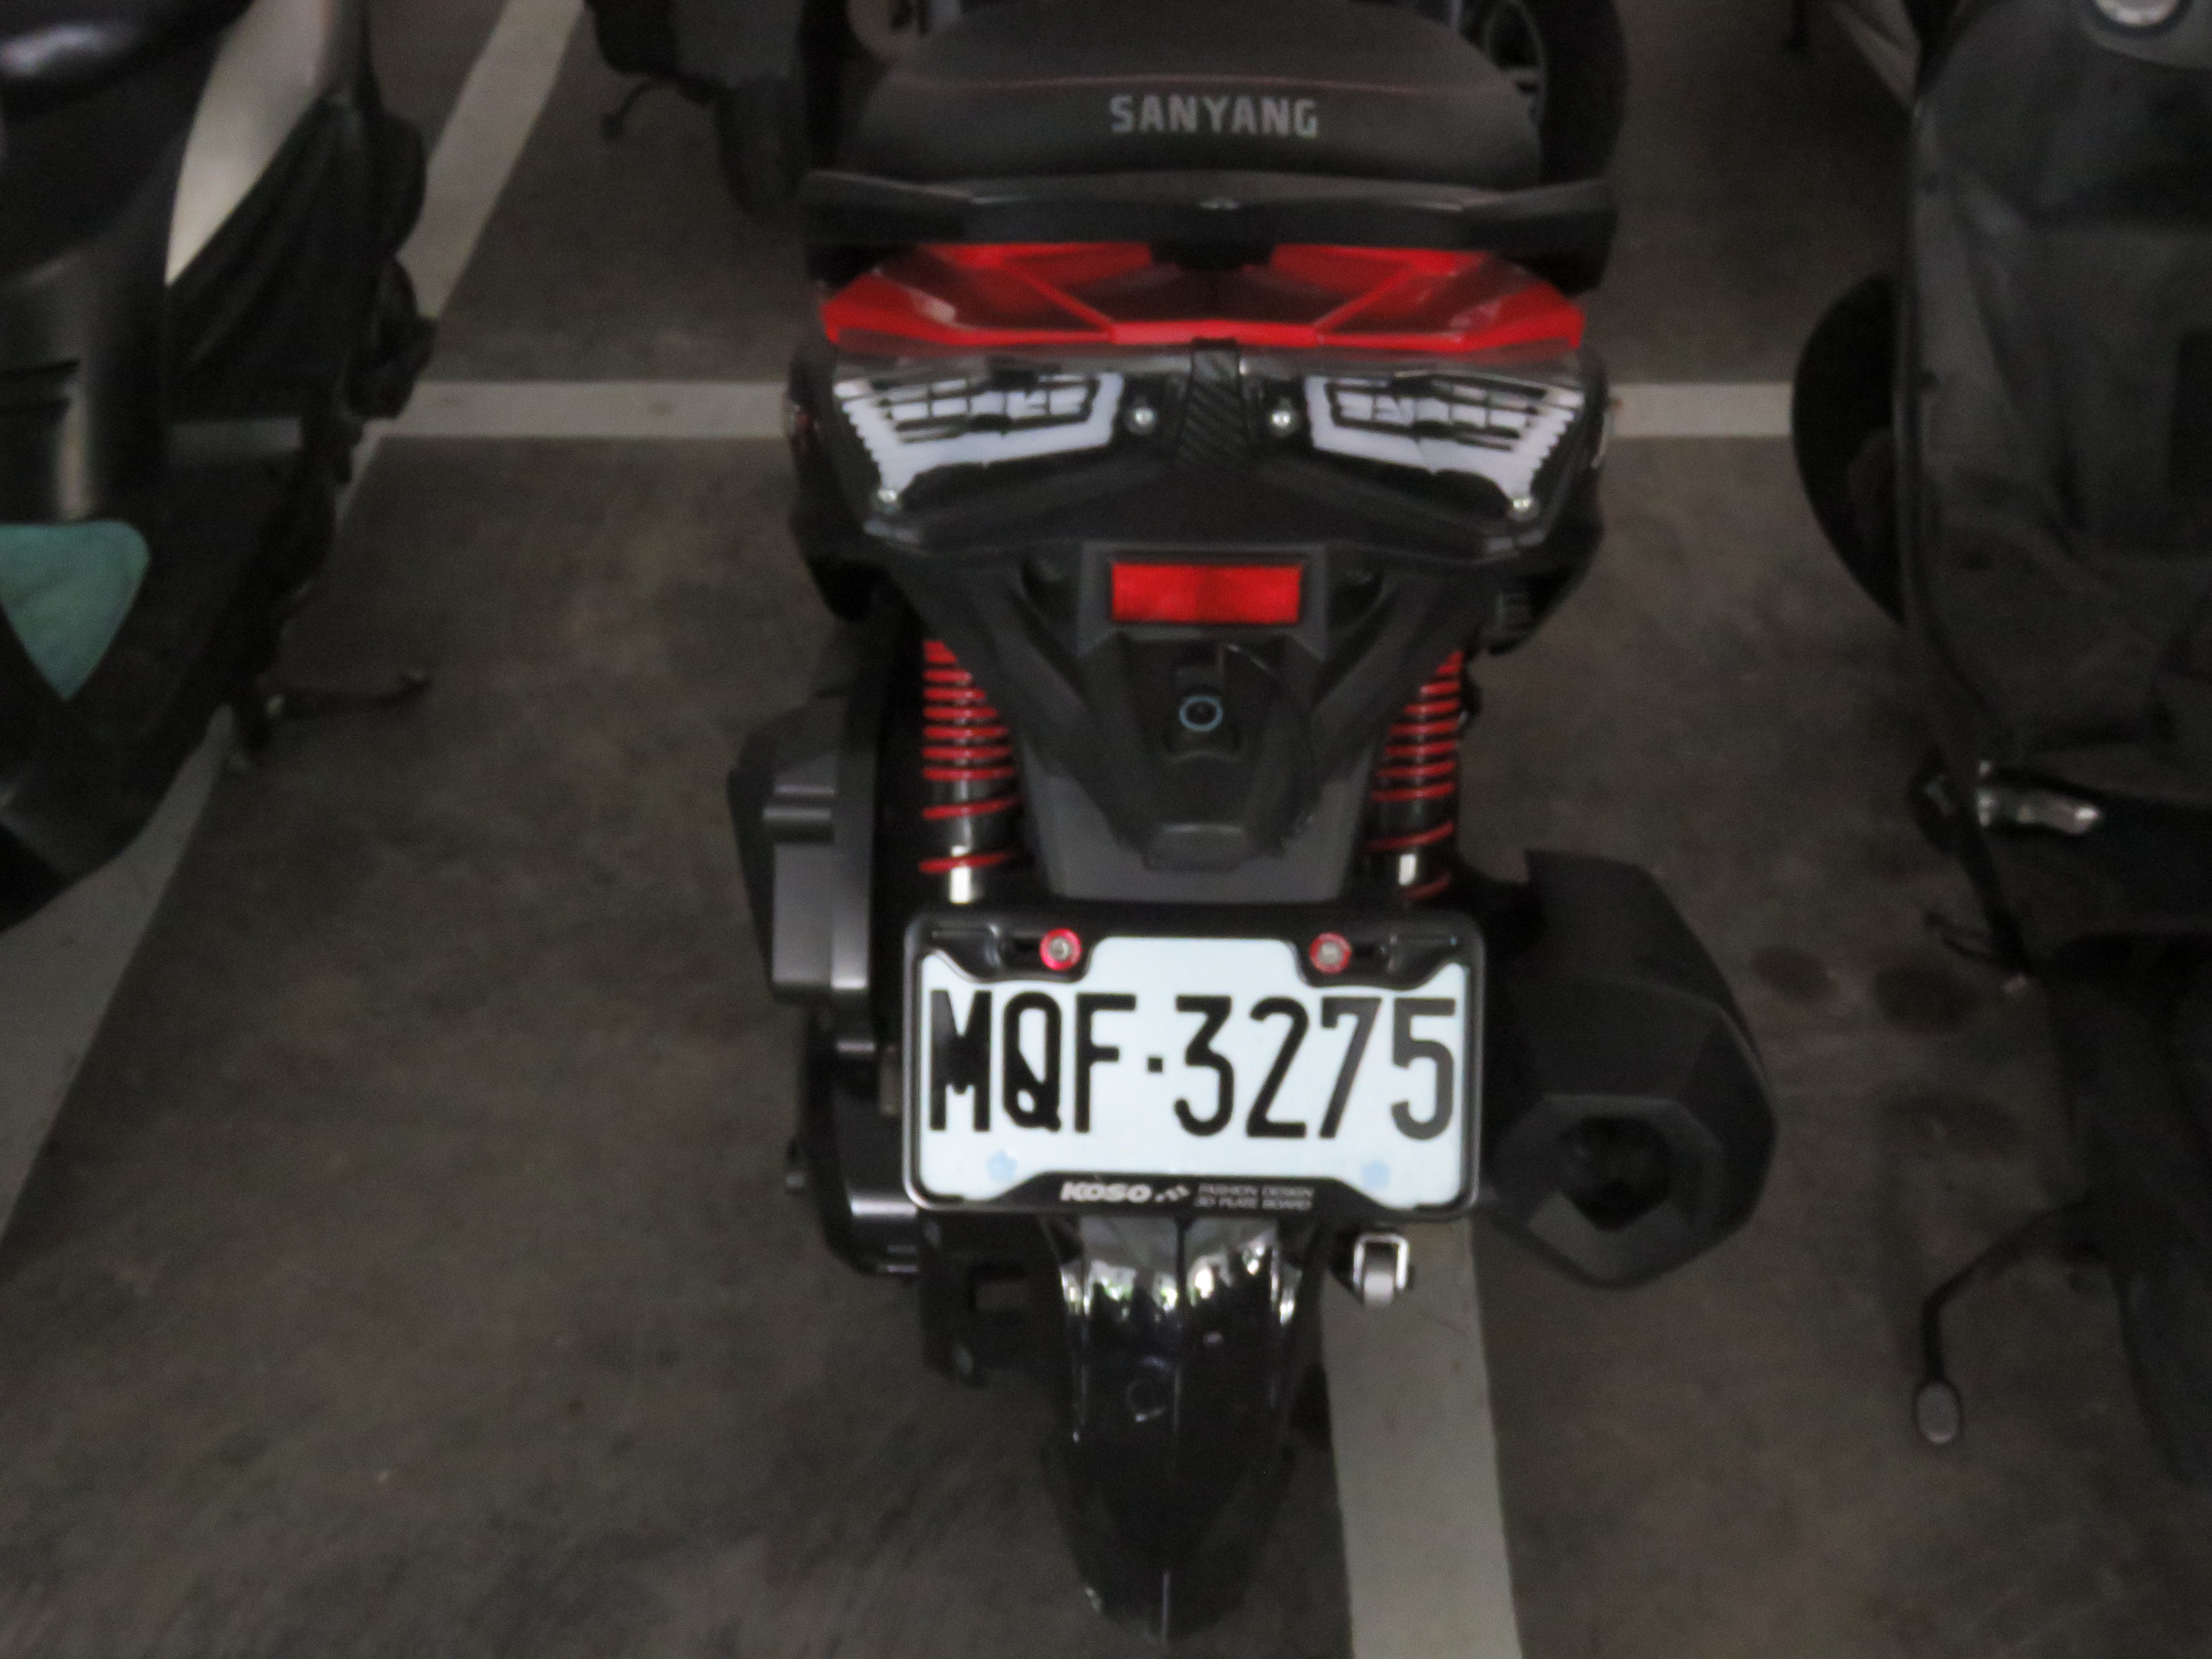car_card: (914, 920, 1482, 1209)
moto: (738, 0, 1602, 1615)
